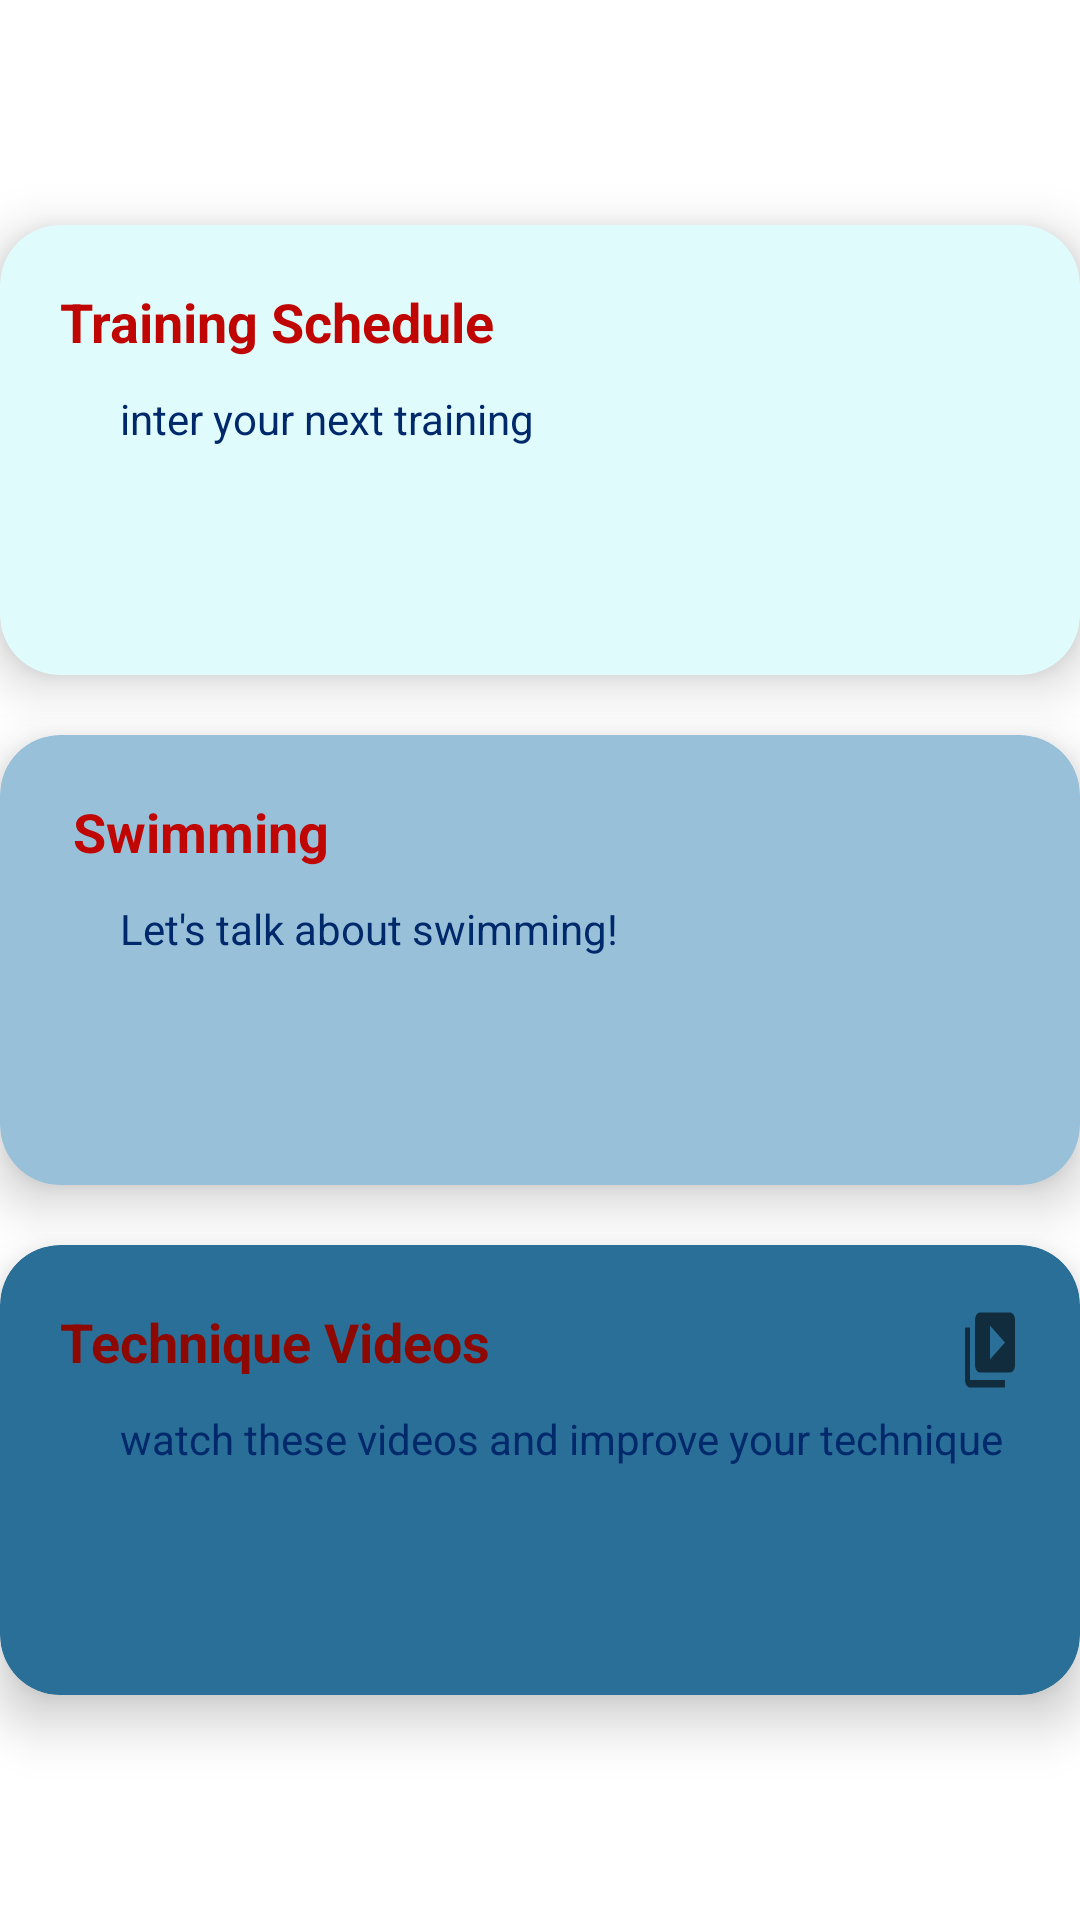

Point at icon controls on the screen. Image size 1080x1920, points as (x,y).
video library: (990,1350)
